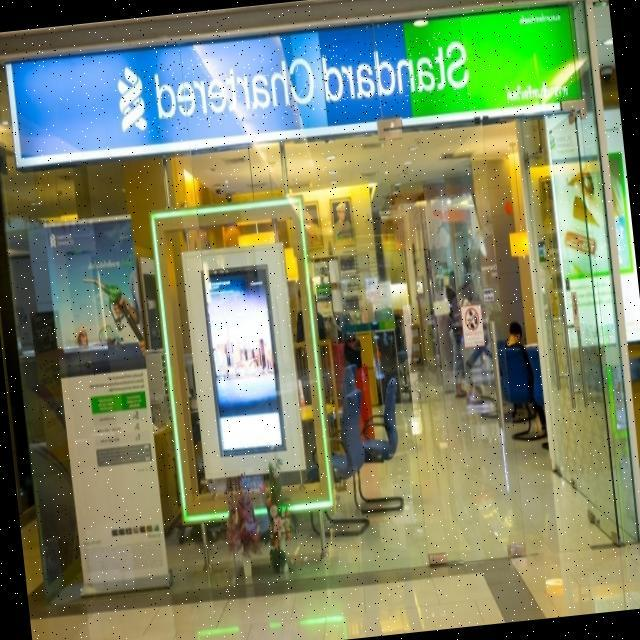Standard Chartered: (116, 30, 471, 136)
